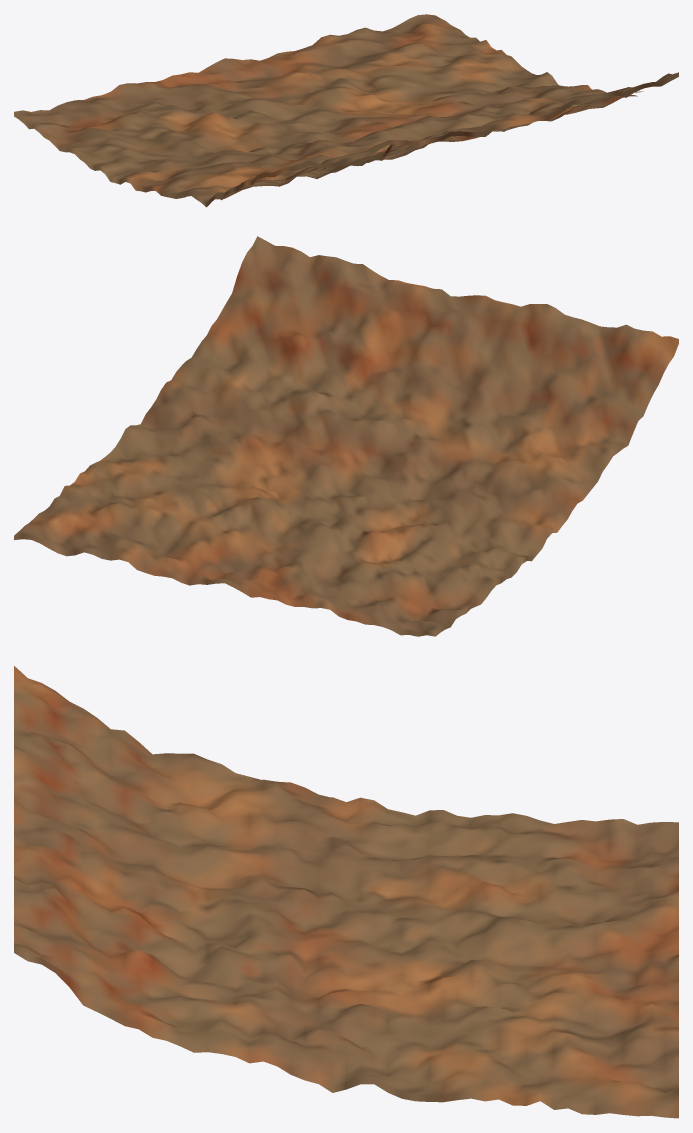
Rendered from terrain-158.glb.
3 views of the same model, one above another, from view 1: azimuth 30°, elevation 25°; view 2: azimuth 150°, elevation 25°; view 3: azimuth 270°, elevation 25° (orthographic). The views are drawn at different scales.
Visible parts, largest first — view 1: terrain-158; view 2: terrain-158; view 3: terrain-158.
Boxes of the visible parts, left/top/right/bottom form: terrain-158: left=14, top=14, right=678, bottom=207; terrain-158: left=14, top=236, right=678, bottom=636; terrain-158: left=14, top=666, right=678, bottom=1118.
Size of the model in its own units: 384 by 115 by 384.
